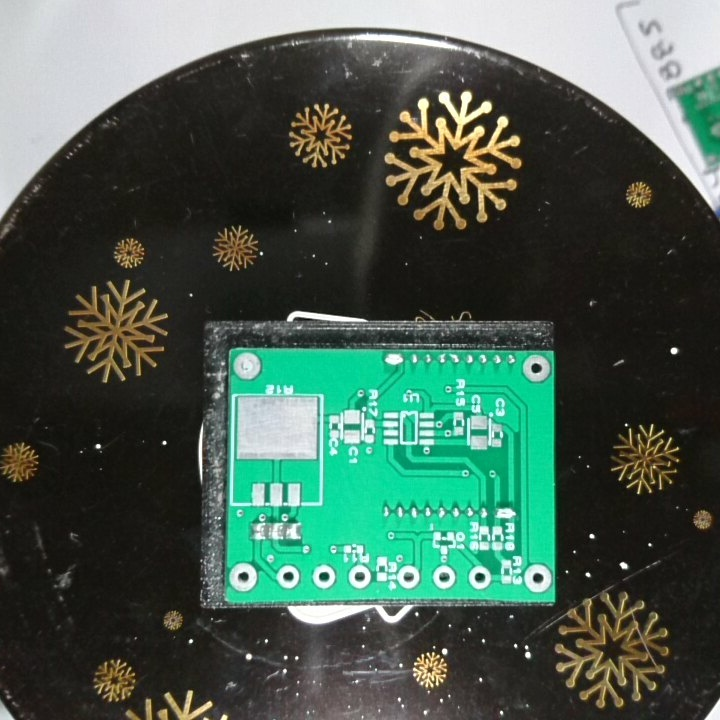F: (519, 353, 554, 384), (228, 560, 259, 594), (231, 350, 262, 383), (522, 563, 553, 595), (430, 563, 458, 592), (274, 564, 301, 592), (346, 563, 374, 590), (466, 563, 492, 592), (395, 565, 422, 592), (311, 564, 337, 591)
P: (382, 350, 406, 371), (494, 504, 517, 523)
